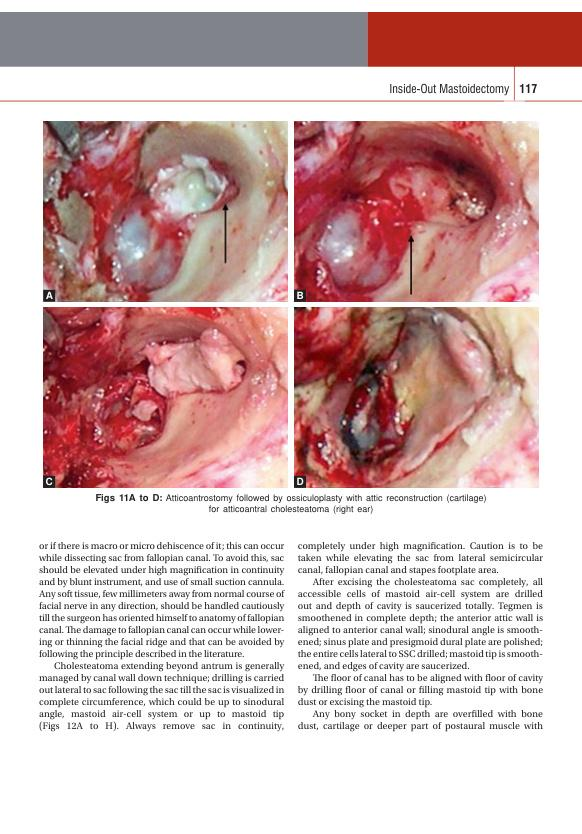caption: (95, 492, 487, 515), (44, 291, 54, 300), (296, 290, 305, 300), (296, 476, 305, 486), (45, 476, 53, 486)
header: (388, 82, 510, 96)
image: (42, 306, 289, 489), (42, 120, 288, 302), (293, 307, 539, 489), (294, 120, 539, 302)
text: (38, 539, 286, 733), (296, 539, 544, 732)
